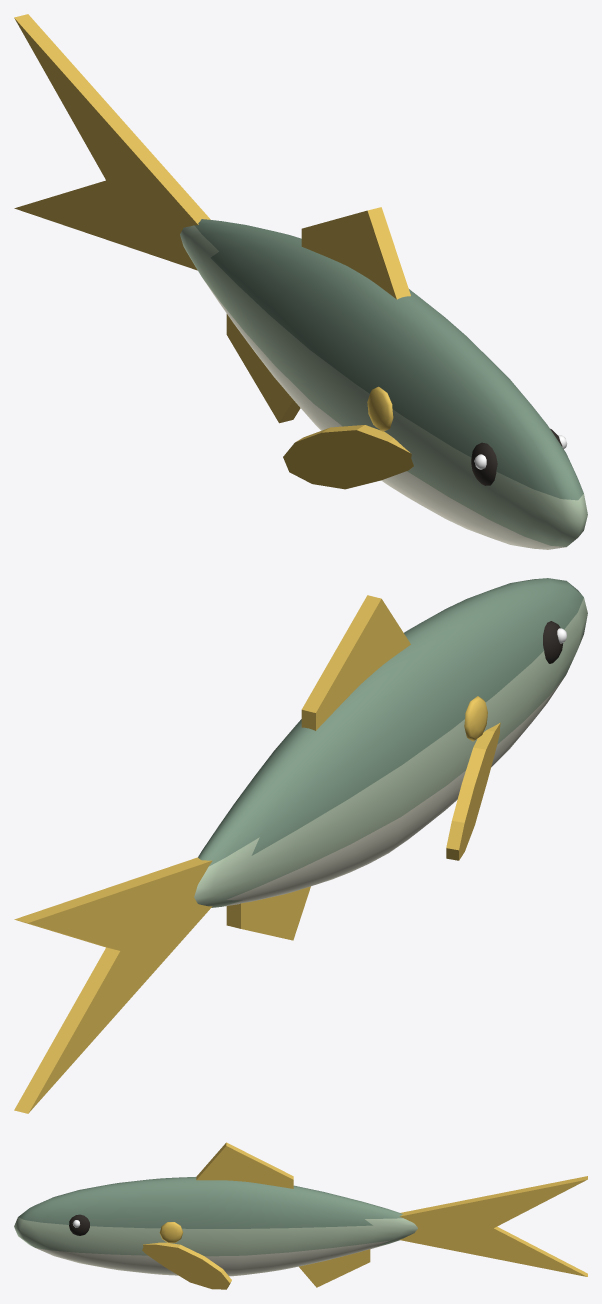
The model's file is fish-sweetfish.glb.
3 views of the same model, one above another, from view 1: azimuth 30°, elevation 25°; view 2: azimuth 150°, elevation 25°; view 3: azimuth 270°, elevation 25° (orthographic). The views are drawn at different scales.
Parts seen in each view (by area): view 1: fish; view 2: fish; view 3: fish.
Part boxes in pixels (box(x1,y1,x2,y2)): fish: box(14, 14, 587, 549); fish: box(14, 578, 587, 1113); fish: box(14, 1142, 587, 1289).
Size of the model in its own units: 0.0743 by 0.1119 by 0.41.
